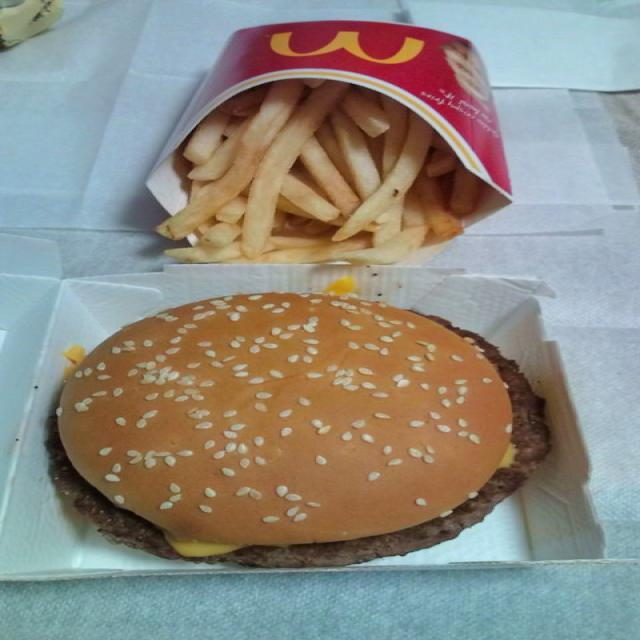French Fries: (136, 83, 496, 275)
Hamburger: (45, 283, 552, 579)
